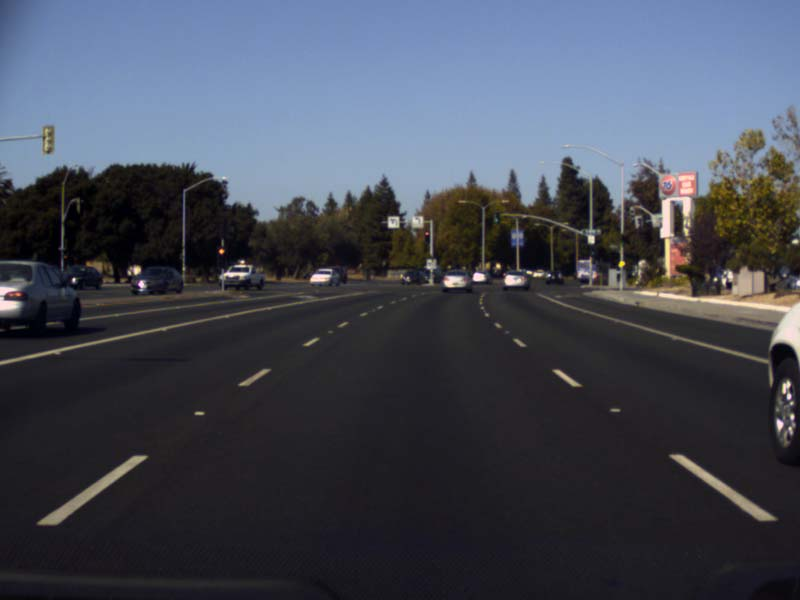Green: (587, 245, 595, 256), (493, 210, 499, 223), (619, 235, 624, 246)
Red: (216, 247, 226, 268), (424, 230, 430, 243)
